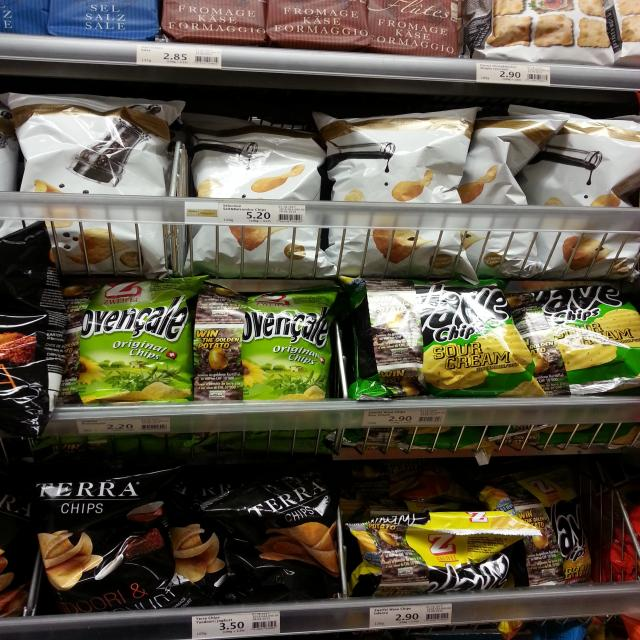Chips: (5, 92, 175, 280), (16, 460, 175, 620), (322, 115, 478, 276), (358, 279, 548, 406), (197, 128, 328, 270), (191, 286, 342, 405), (61, 279, 187, 405), (512, 281, 640, 398)
